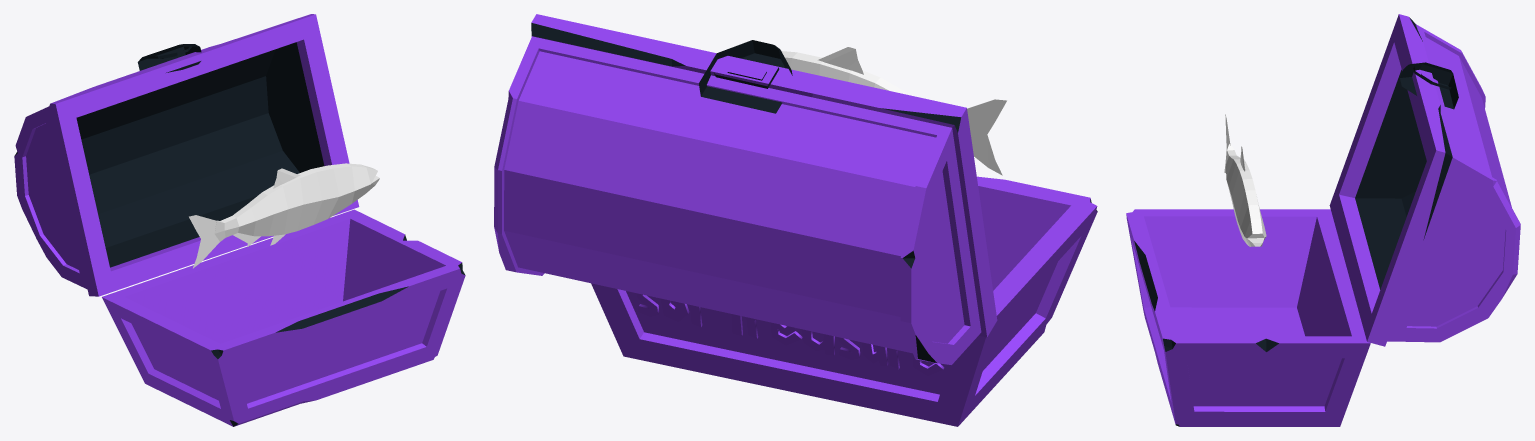
Rendered from purple_chest.glb.
3 views of the same model, side by side, from view 1: azimuth 30°, elevation 25°; view 2: azimuth 150°, elevation 25°; view 3: azimuth 270°, elevation 25° (orthographic). The views are drawn at different scales.
Visible parts, largest first — view 1: Plane.003, Cube.009_Material.002_0; view 2: Plane.003, Cube.009_Material.002_0; view 3: Plane.003, Cube.009_Material.002_0.
Boxes of the visible parts, <box> form: Plane.003: <box>14,14,465,426</box>; Cube.009_Material.002_0: <box>189,163,379,268</box>; Plane.003: <box>494,14,1097,426</box>; Cube.009_Material.002_0: <box>781,47,1006,175</box>; Plane.003: <box>1126,14,1520,426</box>; Cube.009_Material.002_0: <box>1224,114,1266,246</box>.
Size of the model in its own units: 4.91 by 4.26 by 5.09.
Materials: 3 (1 with a texture image).
